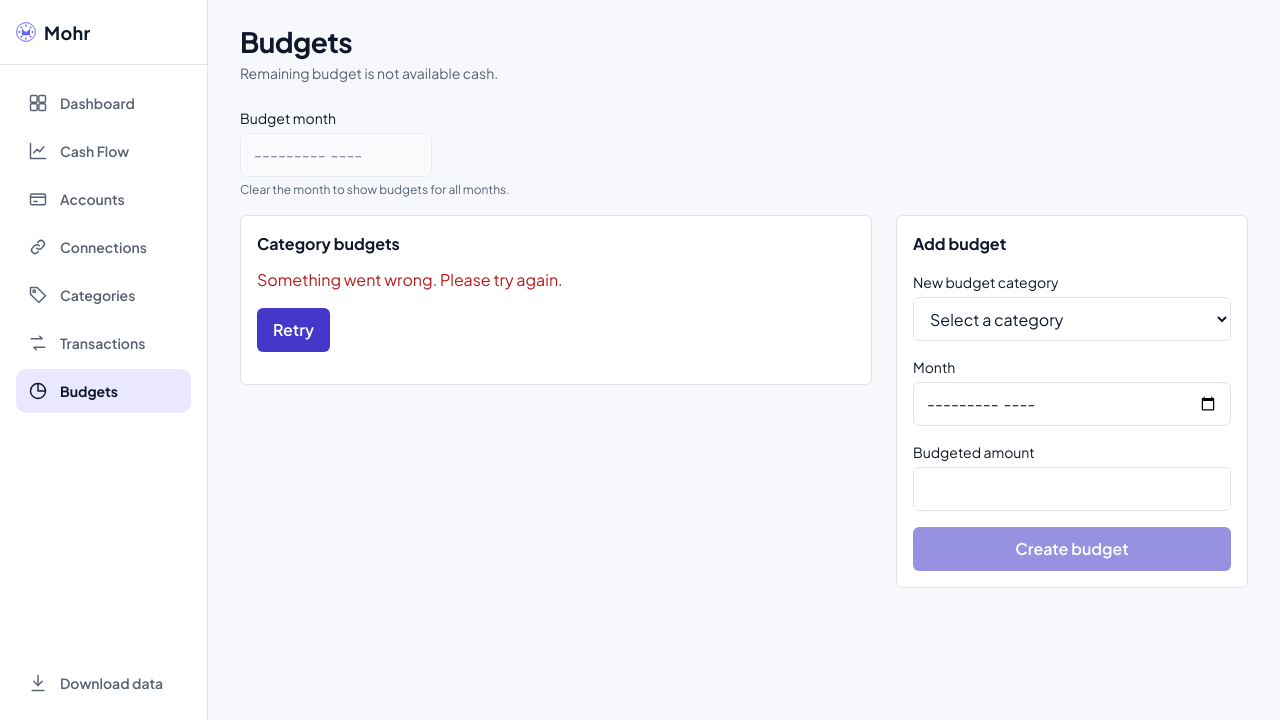
it: budgets list › does not claim an expense category is missing on a failed load and keeps a typed draft through retry
Expected: the message shows "Something went wrong. Please try again.", [257,269,563,290]
Type "2026-09" into the field labelled "Month" at x=1072, y=404, box [913,382,1231,426]
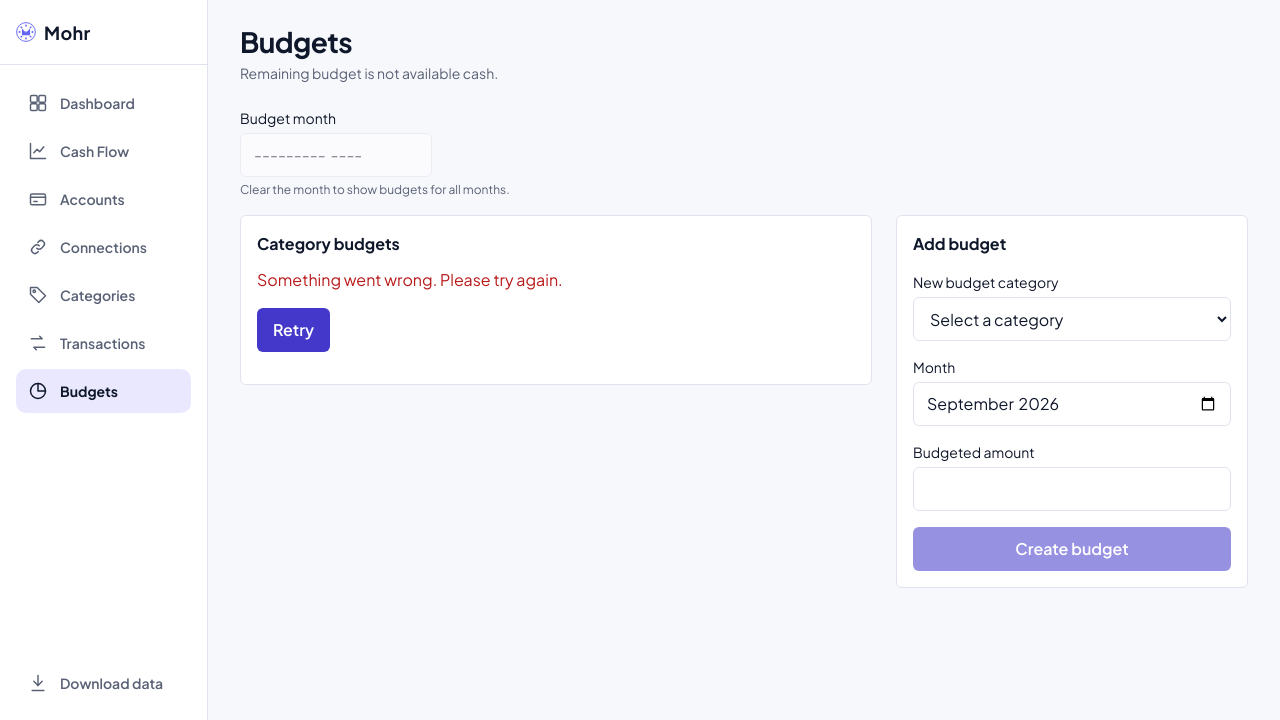
Type "300.00" into the field labelled "Budgeted amount" at x=1072, y=489, box [913,467,1231,511]
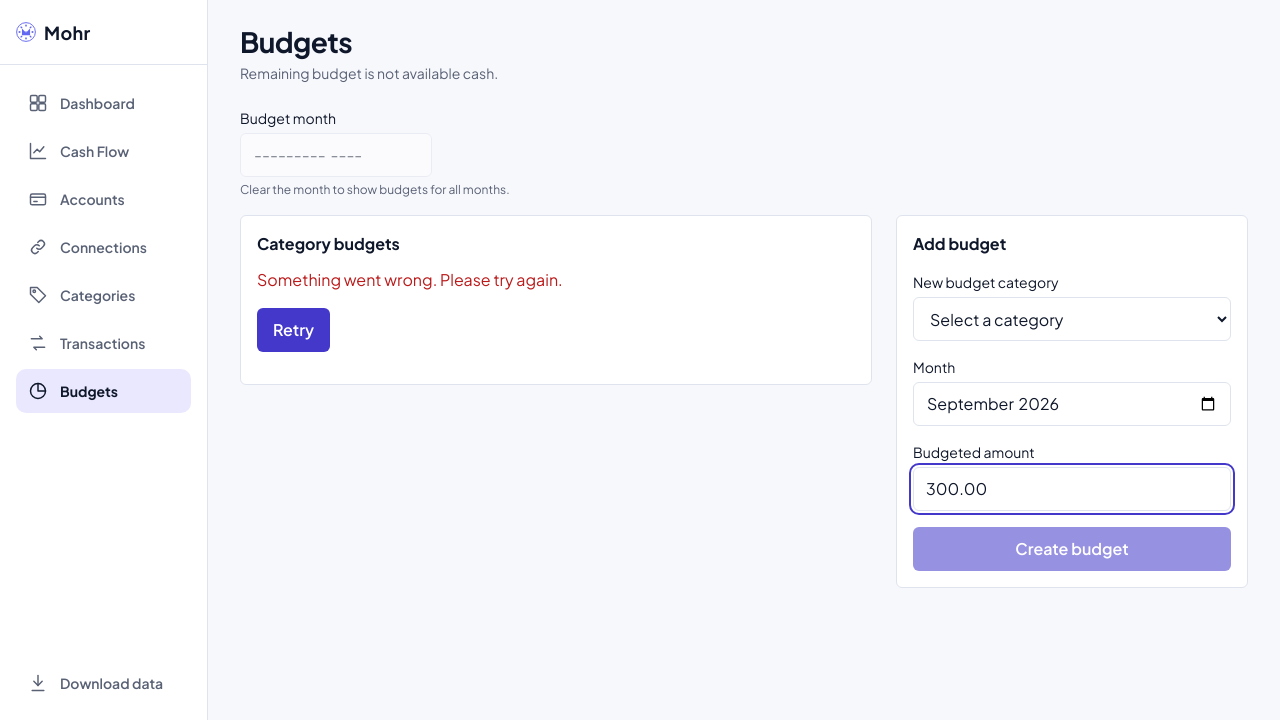
Click the button "Retry" at x=294, y=330, box [257,308,330,352]
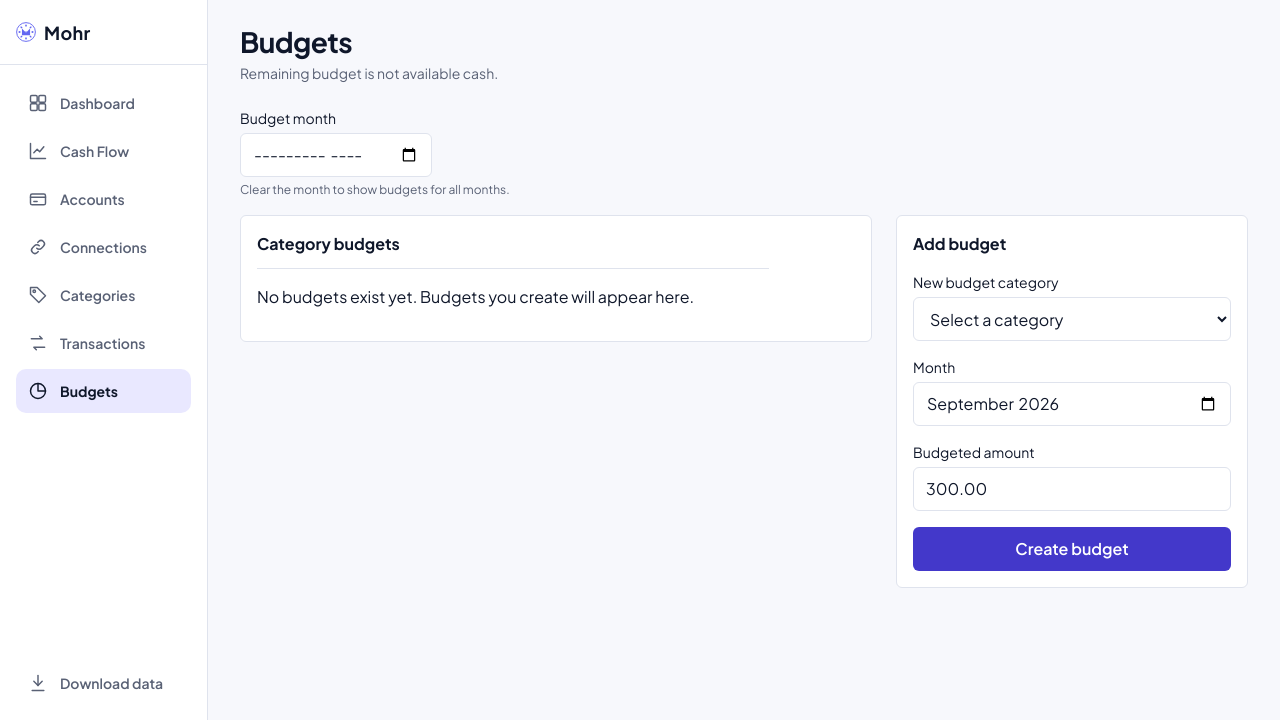
Expected: the text "No budgets exist yet. Budgets you create will appear here." is shown, [257,268,769,309]
